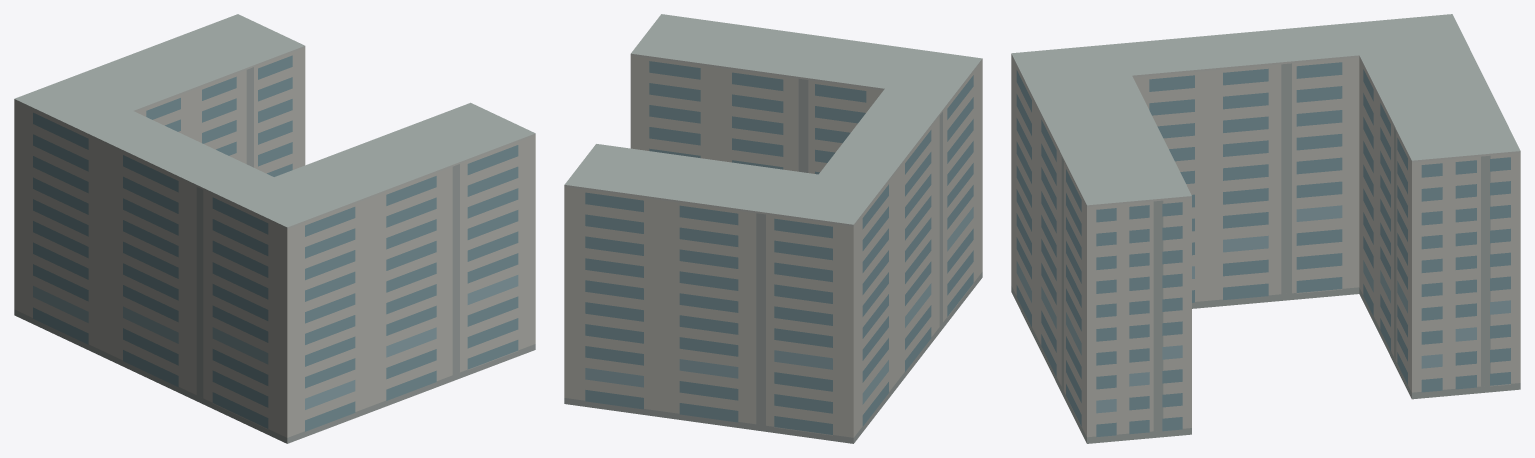
File: residential-6f30532e-d3d7-4fe8-a00f-a4cb358010a4.glb
3 views of the same model, side by side, from view 1: azimuth 30°, elevation 25°; view 2: azimuth 150°, elevation 25°; view 3: azimuth 270°, elevation 25° (orthographic). The views are drawn at different scales.
Visible parts, largest first — view 1: residential-6f30532e-d3d7-4fe8-a00f-a4cb358010a4.tmp; view 2: residential-6f30532e-d3d7-4fe8-a00f-a4cb358010a4.tmp; view 3: residential-6f30532e-d3d7-4fe8-a00f-a4cb358010a4.tmp.
Part boxes in pixels (bbox=[...]): residential-6f30532e-d3d7-4fe8-a00f-a4cb358010a4.tmp: bbox=[14, 14, 535, 443]; residential-6f30532e-d3d7-4fe8-a00f-a4cb358010a4.tmp: bbox=[564, 14, 982, 443]; residential-6f30532e-d3d7-4fe8-a00f-a4cb358010a4.tmp: bbox=[1011, 14, 1520, 443].
Size of the model in its own units: 49.89 by 29 by 56.13.
